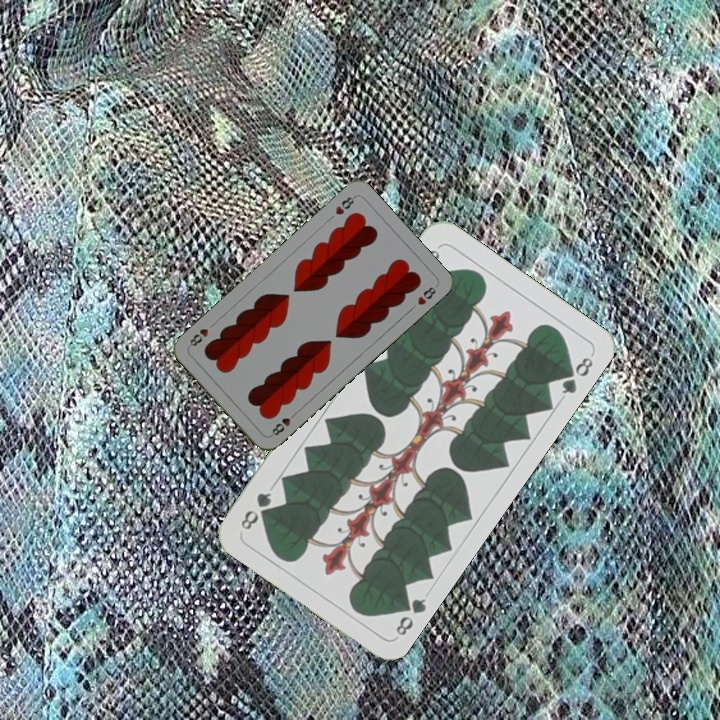G8: (391, 592, 429, 639)
H8: (266, 408, 300, 439), (331, 192, 358, 217)
